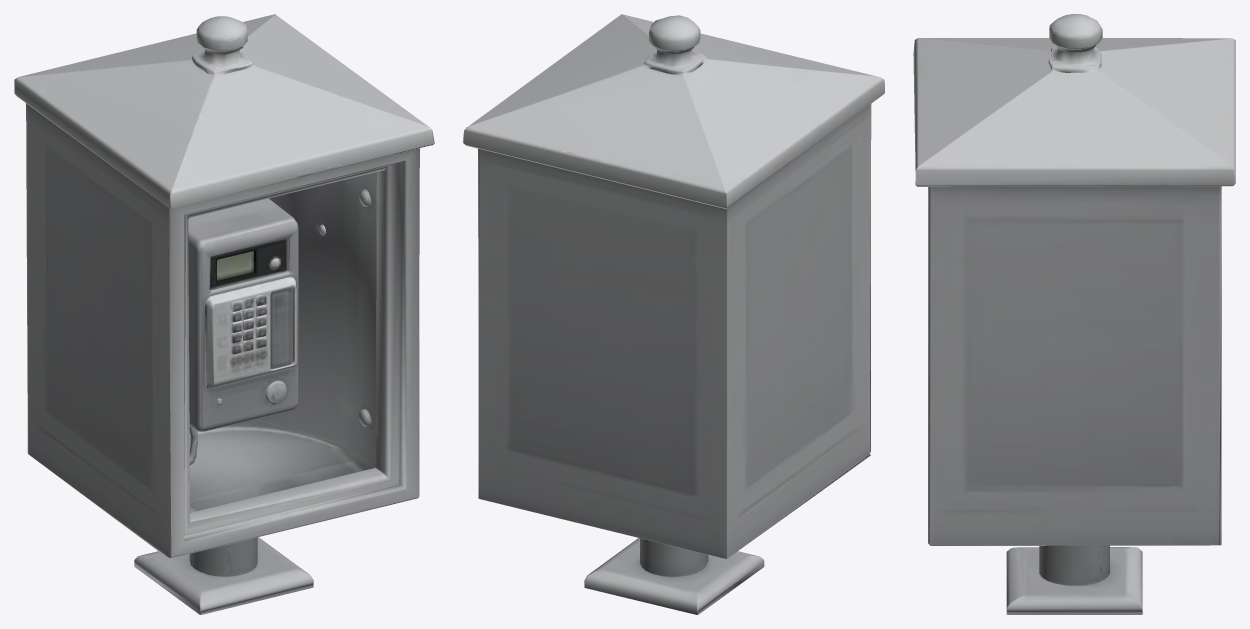
File: payphone.glb
3 renders of one model, left to right at view 1: azimuth 30°, elevation 25°; view 2: azimuth 150°, elevation 25°; view 3: azimuth 270°, elevation 25°, orthographic. The views are drawn at different scales.
Bounding box in the file's own units: 0.4741 × 0.9512 × 0.4883.
1 material, 1 textured.
